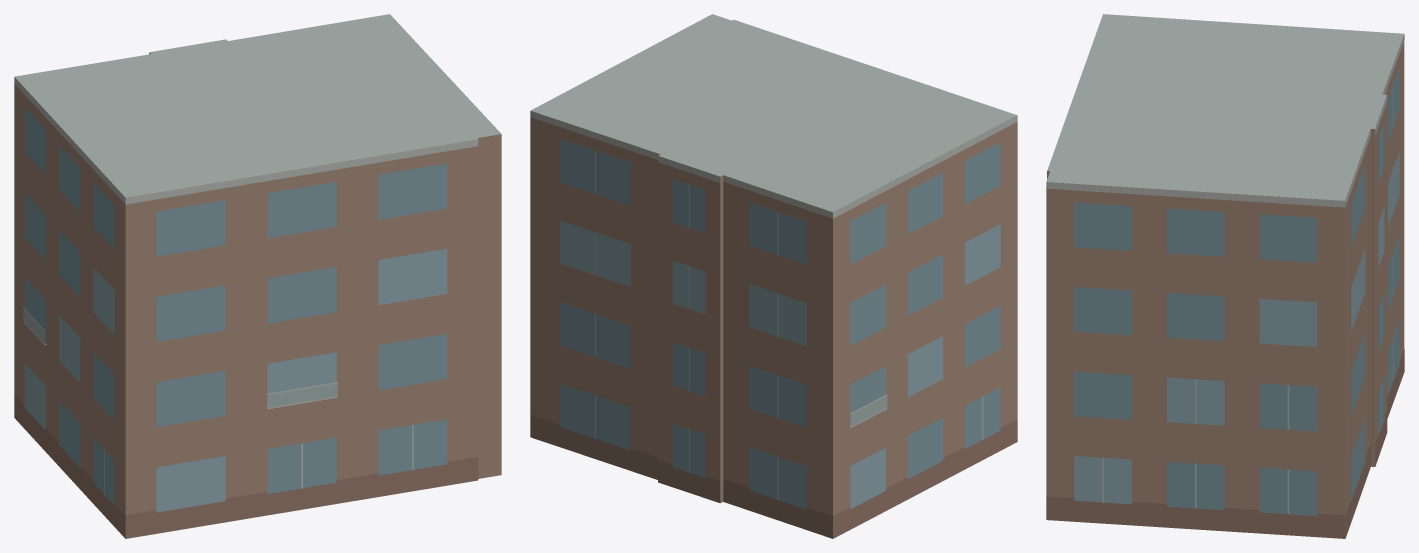
Rendered from survey-upis-32741756.glb.
3 views of the same model, side by side, from view 1: azimuth 30°, elevation 25°; view 2: azimuth 150°, elevation 25°; view 3: azimuth 270°, elevation 25° (orthographic). The views are drawn at different scales.
Parts seen in each view (by area): view 1: survey-upis-32741756.tmp; view 2: survey-upis-32741756.tmp; view 3: survey-upis-32741756.tmp.
Part boxes in pixels (x1,y1,x2,y2): survey-upis-32741756.tmp: [14, 14, 501, 538]; survey-upis-32741756.tmp: [530, 14, 1017, 538]; survey-upis-32741756.tmp: [1046, 14, 1404, 538].
Bounding box in the file's own units: 14.63 × 12.32 × 11.84.
